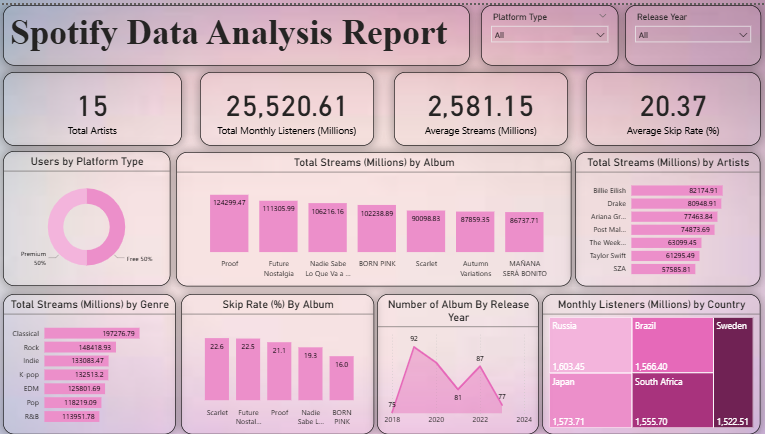

The dashboard page shown, as its layout file describes it:
{"tool":"powerbi","page":{"name":"Page 1","canvas":[1280,720],"ordinal":0},"visuals":[{"type":"textbox","box":[10,0,777.5,100.8],"z":0},{"type":"card","fields":{"Values":["Spotify_Data (2).Monthly Listeners (Millions)"]},"box":[338.9,112.2,290,123.3],"z":1000},{"type":"card","fields":{"Values":["Spotify_Data (2).Total Streams (Millions)"]},"box":[662.2,112.2,290,123.3],"z":2000},{"type":"card","fields":{"Values":["Spotify_Data (2).Artist"]},"box":[9.7,111.9,298.4,123.2],"z":3000},{"type":"slicer","fields":{"Values":["Spotify_Data (2).Release Year"]},"box":[1046.7,0,226.7,101.1],"z":4000},{"type":"slicer","fields":{"Values":["Spotify_Data (2).Platform Type"]},"box":[806.7,0,228.9,101.1],"z":5000},{"type":"clusteredColumnChart","title":"Total Streams (Millions) by Album","fields":{"Category":["Spotify_Data (2).Album"],"Y":["Spotify_Data (2).Total Streams (Millions)"]},"box":[298.5,244.6,659.2,223.8],"z":6000},{"type":"barChart","title":"Total Streams (Millions) by Artists","fields":{"Category":["Spotify_Data (2).Artist"],"Y":["Spotify_Data (2).Total Streams (Millions)"]},"box":[963.8,245.4,309.2,223.8],"z":7000},{"type":"treemap","title":"Monthly Listeners (Millions) by Country","fields":{"Group":["Dim_Country.Country"],"Values":["Spotify_Data (2).Monthly Listeners (Millions)"]},"box":[908,482,364,234],"z":8000},{"type":"barChart","title":"Total Streams (Millions) by Genre","fields":{"Category":["Spotify_Data (2).Genre"],"Y":["Spotify_Data (2).Total Streams (Millions)"]},"box":[10,482,288,234],"z":9000},{"type":"donutChart","title":"Users by Platform Type ","fields":{"Category":["Spotify_Data (2).Platform Type"],"Y":["Spotify_Data (2).Total Hours Streamed (Millions)"]},"box":[9.7,243.2,278.9,225.4],"z":10000},{"type":"card","fields":{"Values":["Spotify_Data (2).Skip Rate (%)"]},"box":[982.2,112.2,291.1,123.3],"z":11000},{"type":"lineChart","title":"Number of Album By  Release Year","fields":{"Category":["Spotify_Data (2).Release Year"],"Y":["Spotify_Data (2).Total Streams (Millions)"]},"box":[633.8,481.9,270,233.8],"z":12000},{"type":"clusteredColumnChart","title":"Skip Rate (%) By Album ","fields":{"Category":["Spotify_Data (2).Album"],"Y":["Spotify_Data (2).Skip Rate (%)"]},"box":[306,482,322,234],"z":13000}]}

Visuals, with their boxes in screenshot pixels (x1, y1, x2, y2), scaled from the page's 1280x720 canvas onto the 765x434 screenshot:
textbox: box(6, 0, 471, 61)
card - Spotify_Data (2).Monthly Listeners (Millions): box(203, 68, 376, 142)
card - Spotify_Data (2).Total Streams (Millions): box(396, 68, 569, 142)
card - Spotify_Data (2).Artist: box(6, 67, 184, 142)
slicer - Spotify_Data (2).Release Year: box(626, 0, 761, 61)
slicer - Spotify_Data (2).Platform Type: box(482, 0, 619, 61)
"Total Streams (Millions) by Album" clusteredColumnChart: box(178, 147, 572, 282)
"Total Streams (Millions) by Artists" barChart: box(576, 148, 761, 283)
"Monthly Listeners (Millions) by Country" treemap: box(543, 291, 760, 432)
"Total Streams (Millions) by Genre" barChart: box(6, 291, 178, 432)
"Users by Platform Type " donutChart: box(6, 147, 172, 282)
card - Spotify_Data (2).Skip Rate (%): box(587, 68, 761, 142)
"Number of Album By  Release Year" lineChart: box(379, 290, 540, 431)
"Skip Rate (%) By Album " clusteredColumnChart: box(183, 291, 375, 432)
